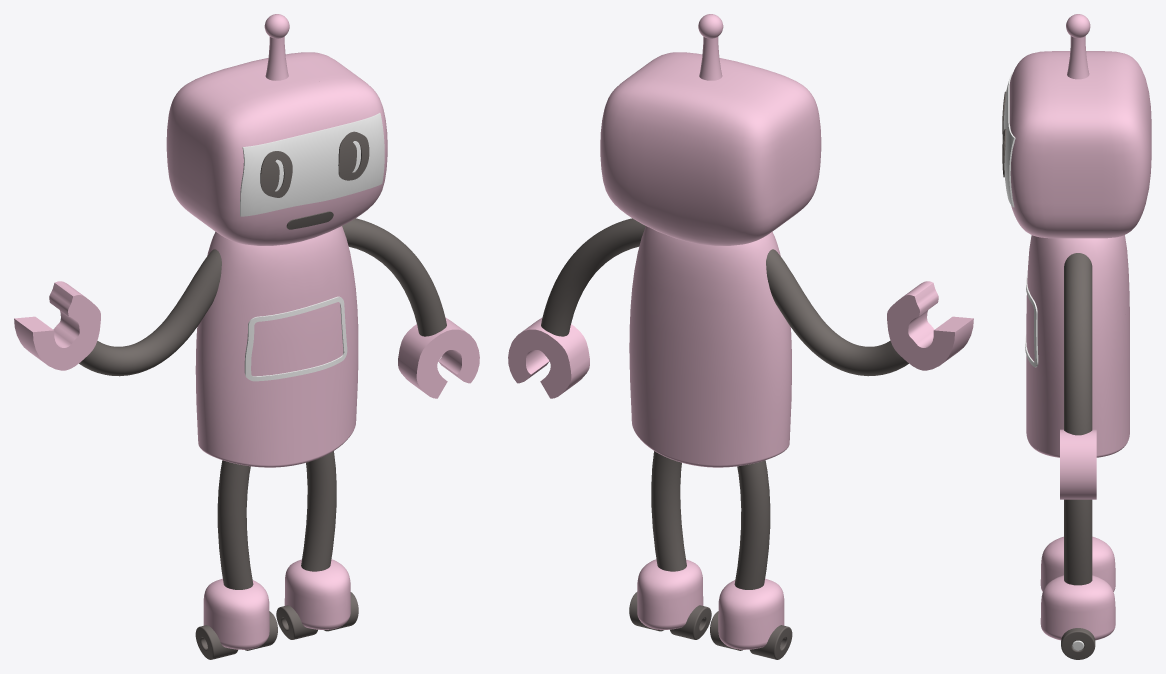
3 views of the same model, side by side, from view 1: azimuth 30°, elevation 25°; view 2: azimuth 150°, elevation 25°; view 3: azimuth 270°, elevation 25° (orthographic). The views are drawn at different scales.
Parts seen in each view (by area): view 1: 010_pasmo; view 2: 010_pasmo; view 3: 010_pasmo.
Boxes of the visible parts, box(x1,y1,x2,y2) form: 010_pasmo: box(14, 14, 479, 659); 010_pasmo: box(508, 14, 973, 659); 010_pasmo: box(1002, 14, 1151, 659).
Size of the model in its own units: 0.1237 by 0.1656 by 0.0366.
